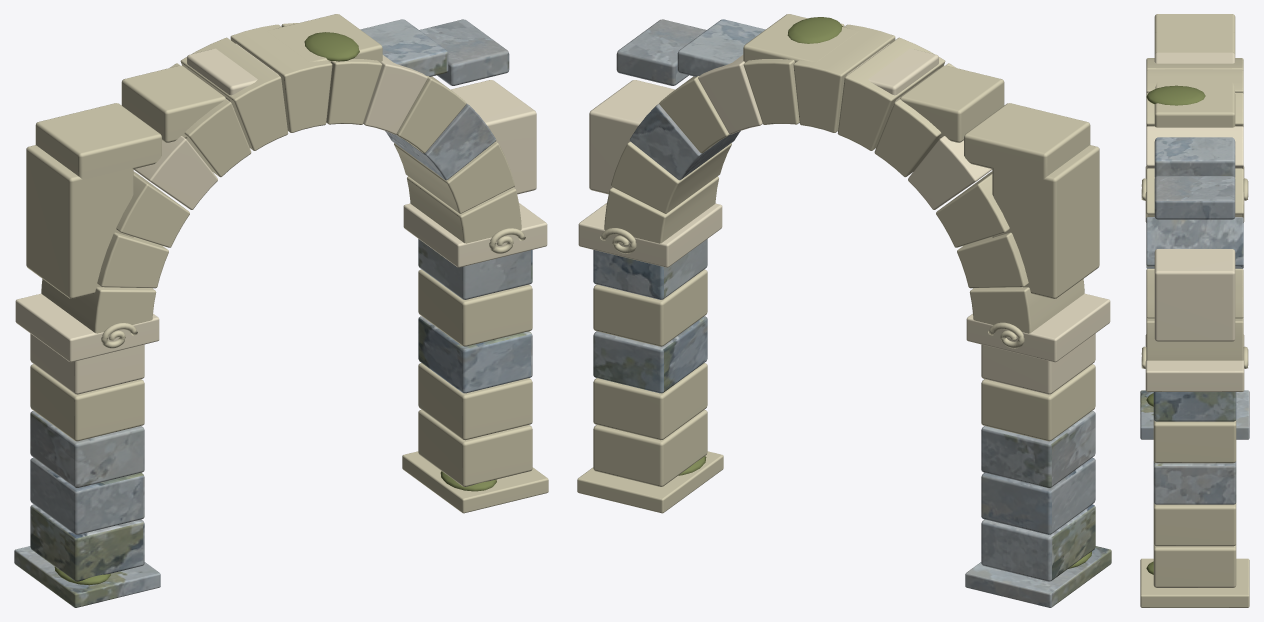
The model's file is SM_RB_CloisterArch.fbx.
3 renders of one model, left to right at view 1: azimuth 30°, elevation 25°; view 2: azimuth 150°, elevation 25°; view 3: azimuth 270°, elevation 25°, orthographic. The views are drawn at different scales.
Visible parts, largest first — view 1: SM_RB_CloisterArch; view 2: SM_RB_CloisterArch; view 3: SM_RB_CloisterArch.
Part boxes in pixels (x1,y1,x2,y2): SM_RB_CloisterArch: (14,14,548,607); SM_RB_CloisterArch: (577,14,1111,607); SM_RB_CloisterArch: (1140,14,1249,607).
Size of the model in its own units: 5.03 by 1.12 by 4.88.
